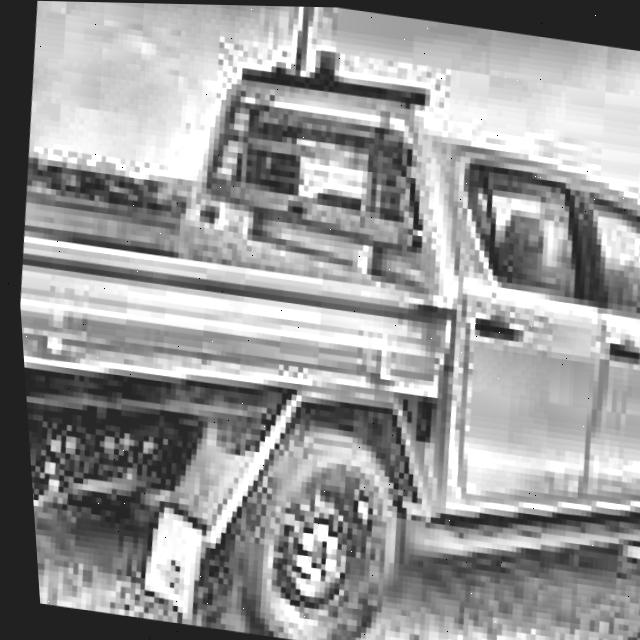light_vehicle: (1, 26, 640, 640)
